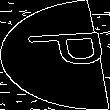P_E: (6, 34, 104, 76)
